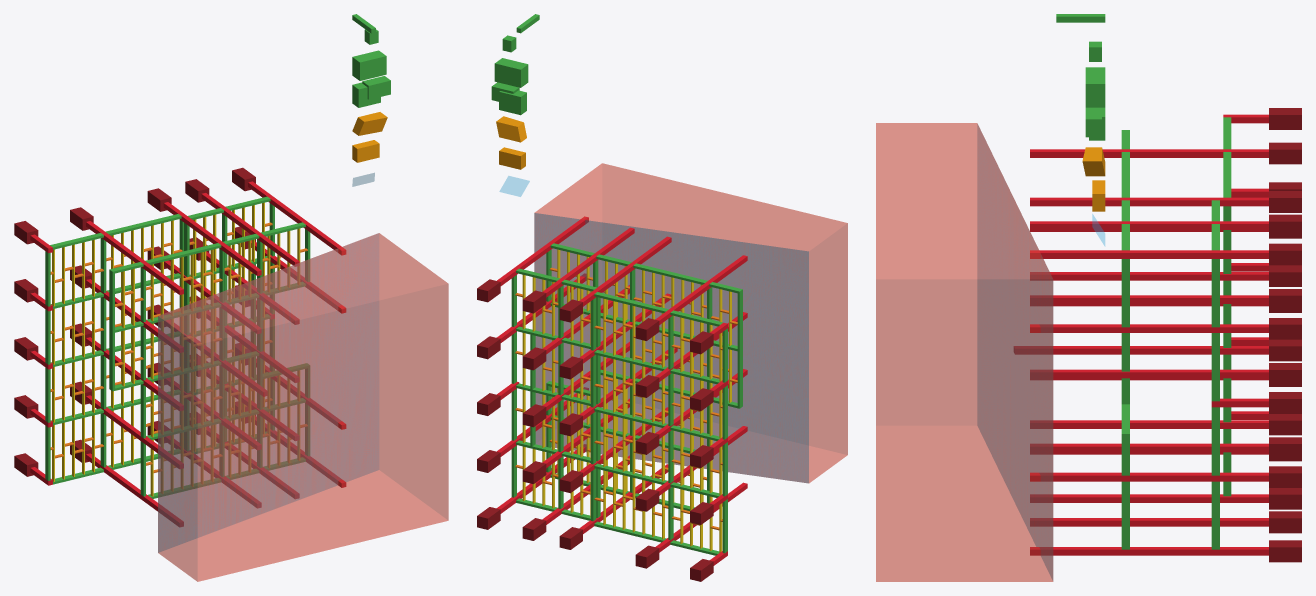
File: tinker.obj
3 renders of one model, left to right at view 1: azimuth 30°, elevation 25°; view 2: azimuth 150°, elevation 25°; view 3: azimuth 270°, elevation 25°, orthographic. The views are drawn at different scales.
Parts seen in each view (by area): view 1: obj_425, obj_424, obj_420, obj_2, obj_3, obj_4, obj_1, obj_421, obj_20, obj_15, obj_13, obj_11 (+12 smaller); view 2: obj_425, obj_424, obj_420, obj_421, obj_2, obj_1, obj_3, obj_4, obj_419, obj_13, obj_9, obj_12 (+7 smaller); view 3: obj_425, obj_424, obj_18, obj_13, obj_17, obj_2, obj_4, obj_12, obj_23, obj_9, obj_3, obj_8 (+35 smaller).
Boxes of the visible parts, x1=… form: obj_425: x1=158, y1=233, x2=448, y2=581; obj_424: x1=158, y1=233, x2=378, y2=552; obj_420: x1=352, y1=76, x2=390, y2=107; obj_2: x1=163, y1=202, x2=261, y2=275; obj_3: x1=201, y1=193, x2=299, y2=266; obj_4: x1=248, y1=181, x2=346, y2=255; obj_1: x1=86, y1=221, x2=183, y2=294; obj_421: x1=352, y1=50, x2=386, y2=80; obj_20: x1=86, y1=453, x2=183, y2=526; obj_15: x1=86, y1=395, x2=183, y2=468; obj_13: x1=206, y1=310, x2=299, y2=382; obj_11: x1=86, y1=337, x2=183, y2=410; obj_425: x1=534, y1=163, x2=847, y2=483; obj_424: x1=534, y1=213, x2=808, y2=482; obj_420: x1=491, y1=82, x2=526, y2=115; obj_421: x1=494, y1=58, x2=528, y2=87; obj_2: x1=579, y1=236, x2=671, y2=306; obj_1: x1=655, y1=255, x2=747, y2=324; obj_3: x1=542, y1=227, x2=634, y2=297; obj_4: x1=497, y1=216, x2=588, y2=285; obj_419: x1=496, y1=116, x2=526, y2=142; obj_13: x1=542, y1=341, x2=629, y2=410; obj_9: x1=496, y1=273, x2=586, y2=342; obj_12: x1=579, y1=347, x2=677, y2=420; obj_425: x1=876, y1=123, x2=1053, y2=581; obj_424: x1=977, y1=124, x2=1052, y2=579; obj_18: x1=1030, y1=472, x2=1268, y2=481; obj_13: x1=1030, y1=369, x2=1268, y2=378; obj_17: x1=1030, y1=443, x2=1268, y2=452; obj_2: x1=1030, y1=197, x2=1268, y2=206; obj_4: x1=1030, y1=250, x2=1268, y2=258; obj_12: x1=1014, y1=346, x2=1268, y2=354; obj_23: x1=1030, y1=547, x2=1268, y2=555; obj_9: x1=1030, y1=324, x2=1268, y2=332; obj_3: x1=1030, y1=221, x2=1268, y2=229; obj_8: x1=1030, y1=295, x2=1268, y2=303.
Size of the model in its own units: 132 by 192 by 130.
